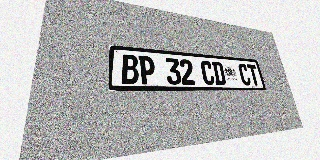2: (179, 59, 195, 85)
3: (165, 58, 182, 85)
B: (121, 54, 139, 84)
C: (200, 60, 215, 85), (237, 63, 252, 85)
D: (211, 61, 226, 85)
P: (138, 56, 156, 84)
T: (247, 64, 261, 86)
